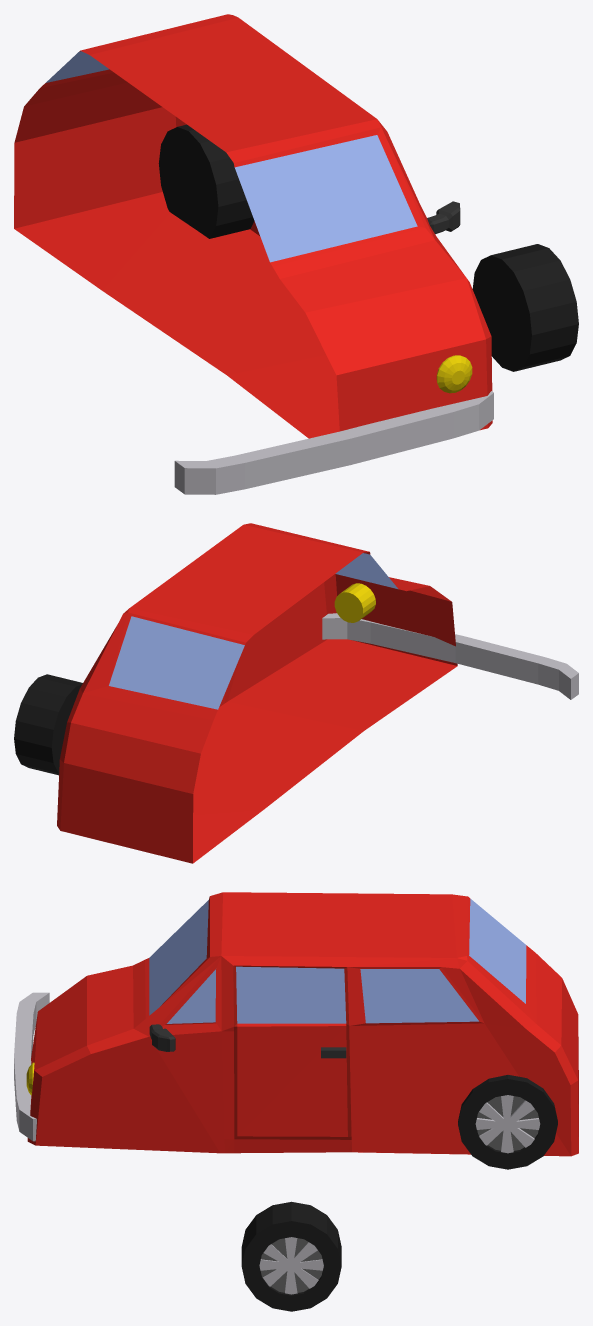
The model's file is 1wheels.glb.
The picture shows the model from 3 angles, top to bottom: view 1: azimuth 30°, elevation 25°; view 2: azimuth 150°, elevation 25°; view 3: azimuth 270°, elevation 25°; orthographic projection. The views are drawn at different scales.
Visible parts, largest first — view 1: Cube, Cube.004, Cylinder, Cylinder.001, Cylinder.002, Cube.001; view 2: Cube, Cube.004, Cylinder, Cylinder.002; view 3: Cube, Cylinder, Cylinder.001, Cube.004, Cube.003, Cube.005, Cube.001.
Boxes of the visible parts, x1,y1,x2,y2 form: Cube: [14, 14, 492, 438]; Cube.004: [174, 391, 493, 494]; Cylinder: [472, 244, 578, 371]; Cylinder.001: [158, 124, 254, 238]; Cylinder.002: [436, 355, 472, 393]; Cube.001: [427, 201, 460, 233]; Cube: [57, 523, 457, 863]; Cube.004: [322, 613, 578, 699]; Cylinder: [14, 674, 82, 775]; Cylinder.002: [334, 583, 375, 622]; Cube: [27, 892, 578, 1156]; Cylinder: [241, 1201, 341, 1311]; Cylinder.001: [458, 1075, 557, 1169]; Cube.004: [14, 992, 49, 1141]; Cube.003: [475, 1095, 540, 1153]; Cube.005: [259, 1237, 323, 1294]; Cube.001: [149, 1024, 175, 1051].
Bounding box in the file's own units: 4.38 × 2.6 × 4.92.
